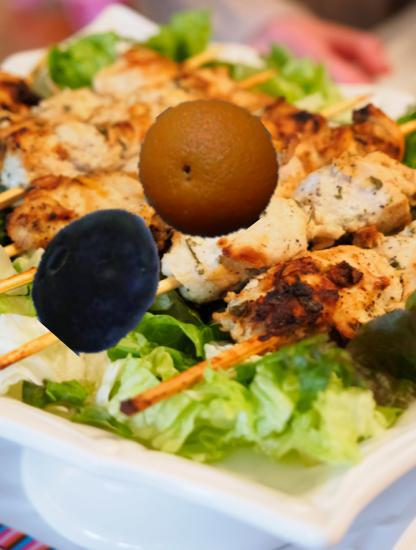Blueberry: (26, 204, 173, 351)
Orange: (135, 97, 279, 241)
